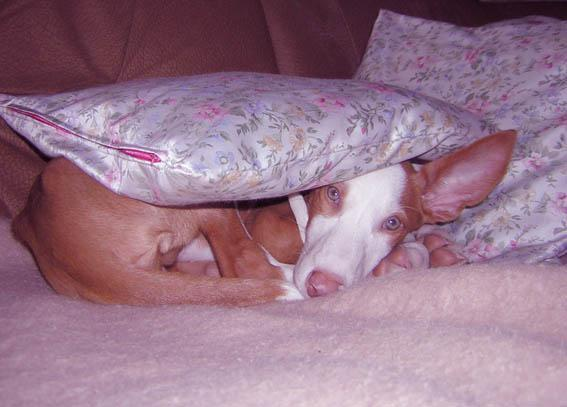Ibizan_hound: (9, 129, 516, 298)
